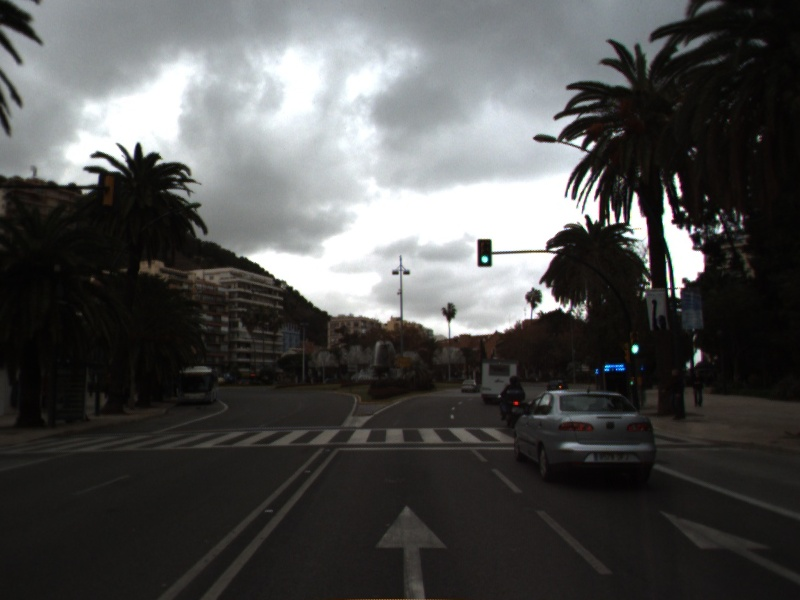STRAIGHT: (656, 507, 800, 584), (371, 501, 453, 600)
